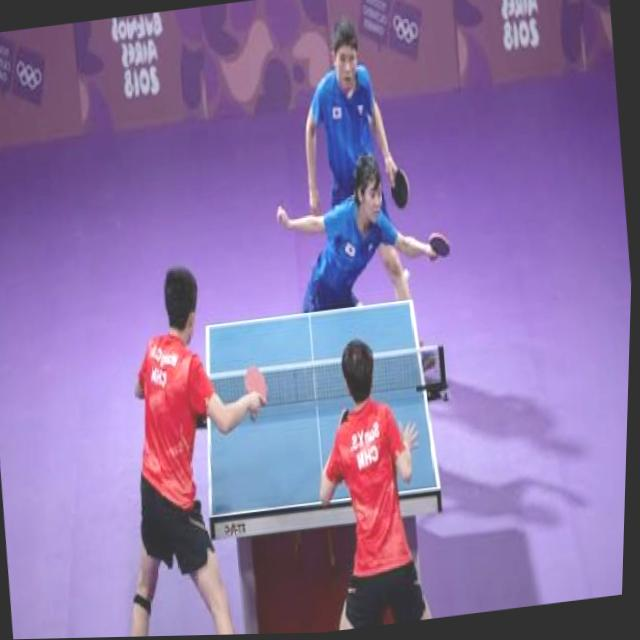TT Net: (186, 340, 447, 427)
TT Racket: (386, 160, 417, 215), (244, 358, 270, 411), (427, 226, 455, 263)
TT Table: (205, 299, 437, 514)
